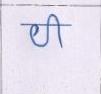i_matra: (49, 14, 66, 48)
